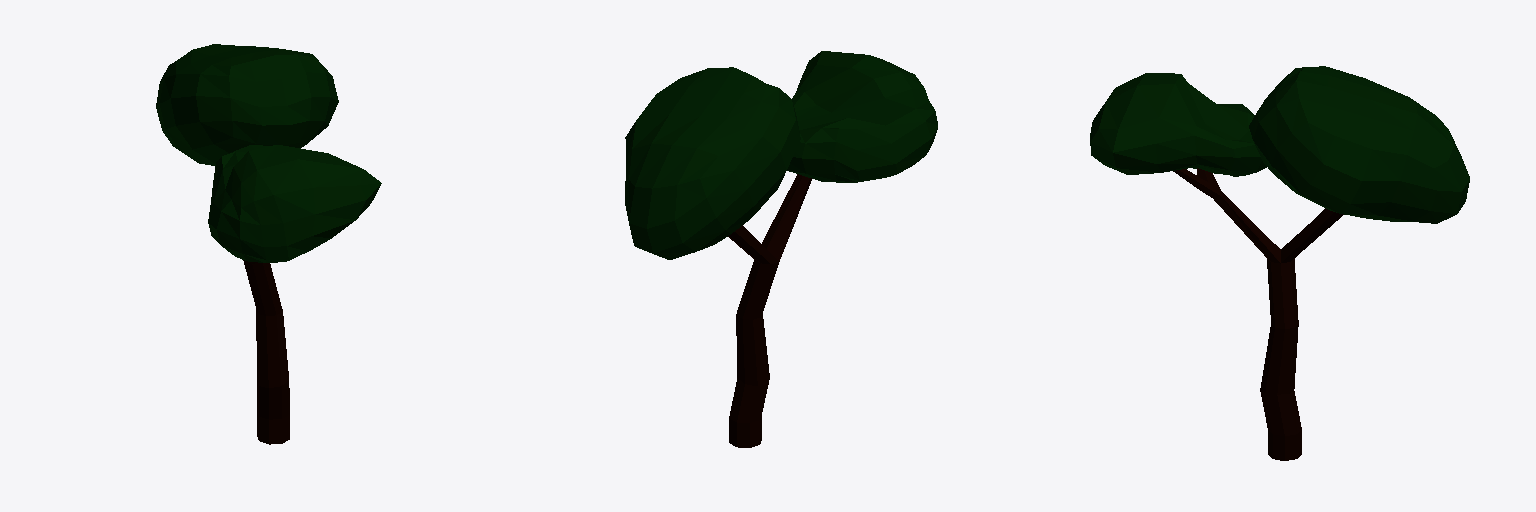
File: tree_two_branches.obj
The picture shows the model from 3 angles: view 1: azimuth 30°, elevation 25°; view 2: azimuth 150°, elevation 25°; view 3: azimuth 270°, elevation 25°; orthographic projection.
Visible parts, largest first — view 1: Cube.005, Cube.009, Cylinder.009; view 2: Cube.005, Cube.009, Cylinder.009; view 3: Cube.005, Cube.009, Cylinder.009.
Boxes of the visible parts, box(x1,y1,x2,y2) form: Cube.005: box(156, 44, 338, 165); Cube.009: box(208, 145, 381, 262); Cylinder.009: box(243, 260, 289, 444); Cube.005: box(625, 67, 800, 259); Cube.009: box(787, 51, 937, 182); Cylinder.009: box(728, 174, 811, 447); Cube.005: box(1249, 66, 1469, 223); Cube.009: box(1090, 73, 1266, 176); Cylinder.009: box(1173, 168, 1343, 460).
Size of the model in its own units: 13.7 by 24.3 by 22.27.